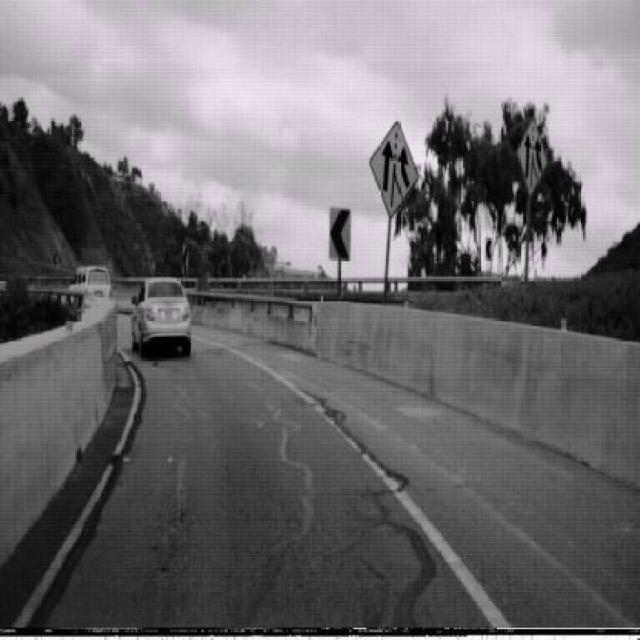addedLane: (369, 118, 419, 220), (517, 116, 548, 196)
